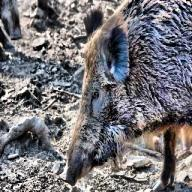boar: (60, 0, 191, 191)
